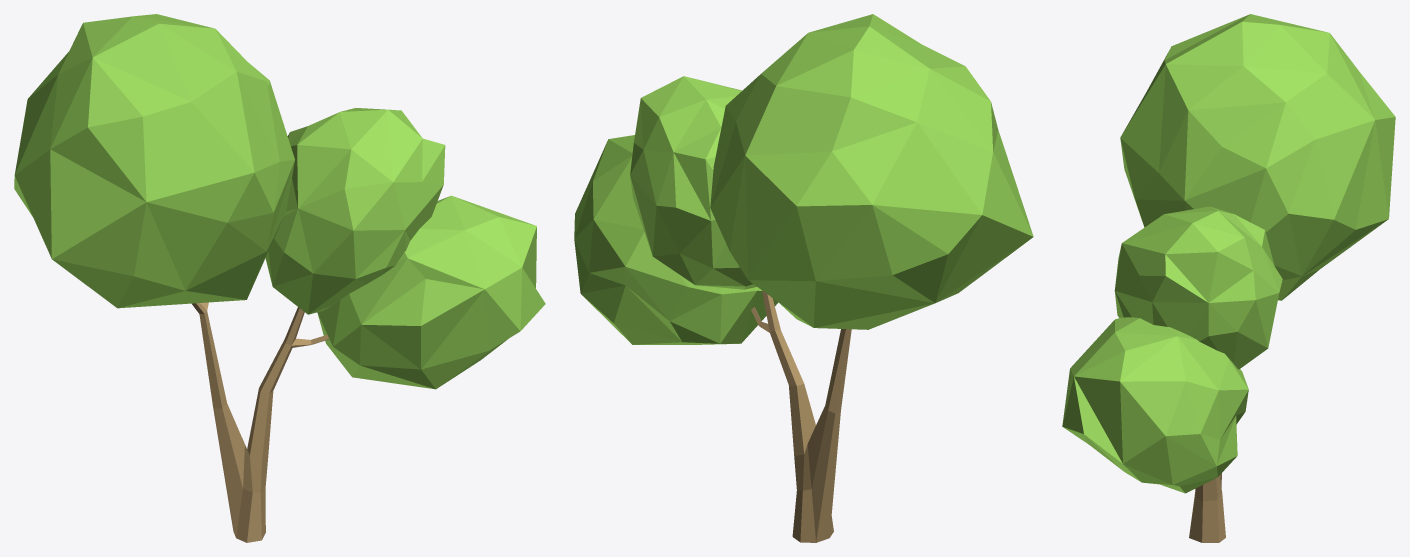
Rendered from Apple_Tree_m_08.fbx.
3 renders of one model, left to right at view 1: azimuth 30°, elevation 25°; view 2: azimuth 150°, elevation 25°; view 3: azimuth 270°, elevation 25°, orthographic. The views are drawn at different scales.
Visible parts, largest first — view 1: Apple_Tree_m_08; view 2: Apple_Tree_m_08; view 3: Apple_Tree_m_08.
Boxes of the visible parts, box(x1,y1,x2,y2) form: Apple_Tree_m_08: box(14, 14, 545, 542); Apple_Tree_m_08: box(574, 14, 1033, 542); Apple_Tree_m_08: box(1062, 14, 1395, 542).
Size of the model in its own units: 787 by 856 by 536.
